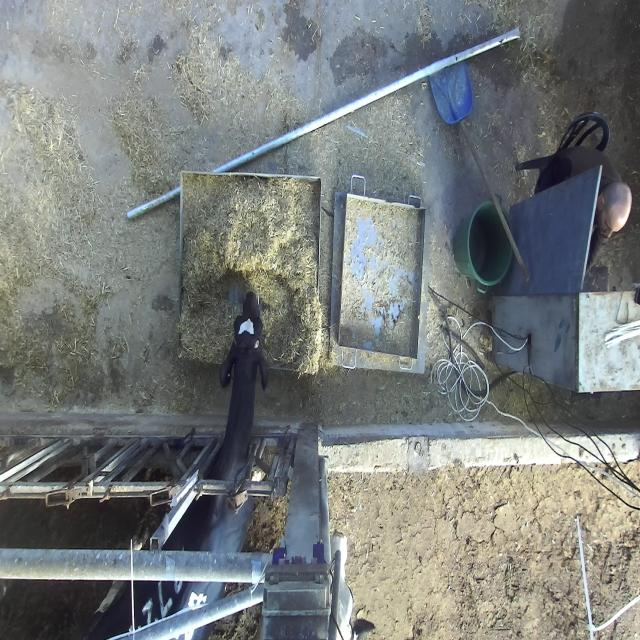cow: (329, 530, 376, 640), (218, 290, 270, 386)
